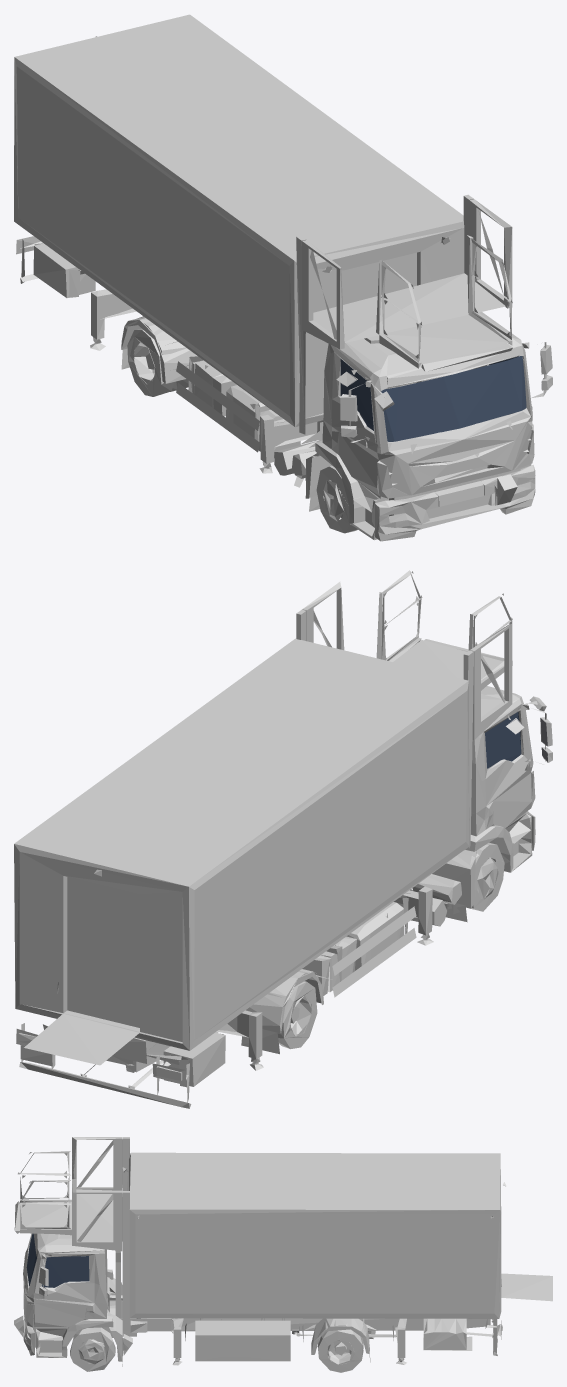
Rendered from catering.glb.
3 renders of one model, top to bottom at view 1: azimuth 30°, elevation 25°; view 2: azimuth 150°, elevation 25°; view 3: azimuth 270°, elevation 25°, orthographic. The views are drawn at different scales.
Parts seen in each view (by area): view 1: FrontLight0_M_Truck_0, Windows_M_Glass_0; view 2: FrontLight0_M_Truck_0, Windows_M_Glass_0; view 3: FrontLight0_M_Truck_0, Windows_M_Glass_0.
Boxes of the visible parts, x1,y1,x2,y2 form: FrontLight0_M_Truck_0: (14,14,552,541); Windows_M_Glass_0: (340,356,526,441); FrontLight0_M_Truck_0: (14,570,552,1108); Windows_M_Glass_0: (485,712,521,768); FrontLight0_M_Truck_0: (14,1137,552,1372); Windows_M_Glass_0: (26,1233,89,1287).
Size of the model in its own units: 2.71 by 3.37 by 9.
